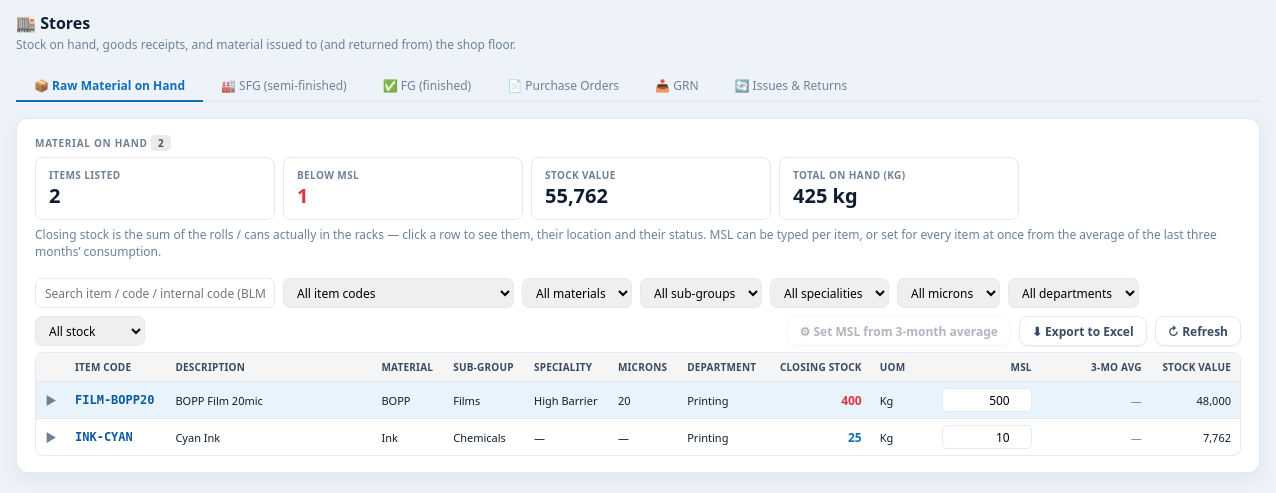
Test: Stores — the material-on-hand board › offers the five filters the stores desk works by
The width and height of the screenshot is (1276, 493).
Expected: the text "FILM-BOPP20" is shown, x1=66 y1=382 x2=166 y2=418
Expected: the dropdown named "Filter by sub-group" is shown, x1=640 y1=278 x2=762 y2=308
Note: filtering by material leaves only the matching item
Select "Ink" in the dropdown named "Filter by material" at coordinates (577, 293), box x1=522 y1=278 x2=632 y2=308
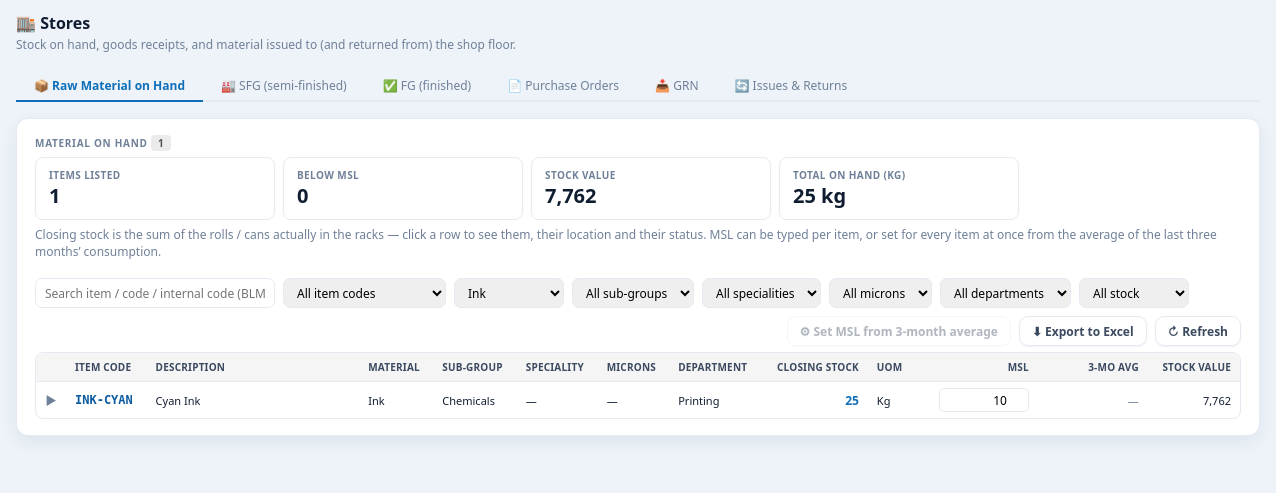
Expected: the text "INK-CYAN" is shown, x1=66 y1=382 x2=147 y2=418
Now the text "FILM-BOPP20" is gone
